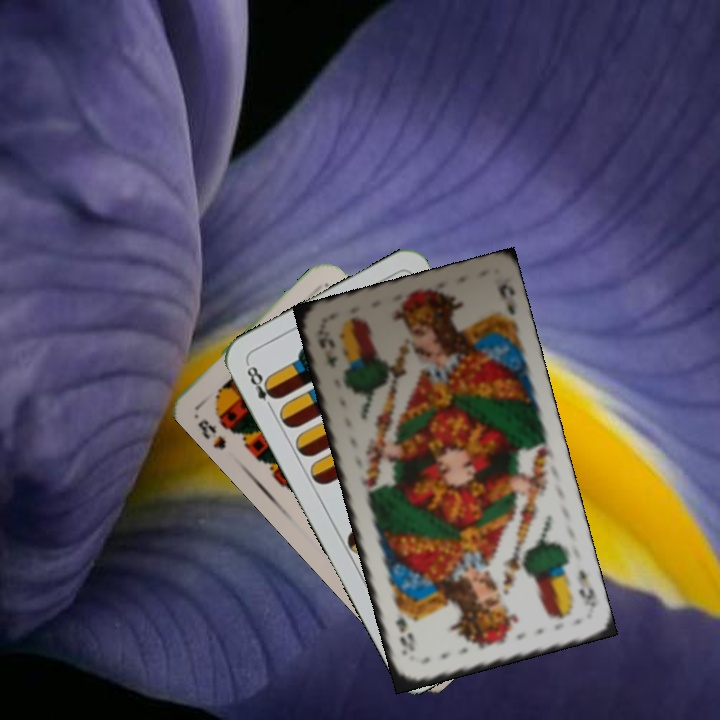E8: (242, 359, 281, 414)
EK: (573, 565, 600, 614), (317, 329, 340, 371)
S8: (193, 415, 229, 453)
